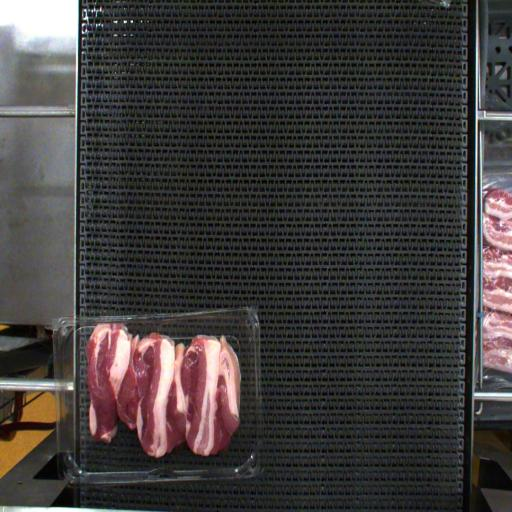packaging-error: (94, 313, 128, 331)
